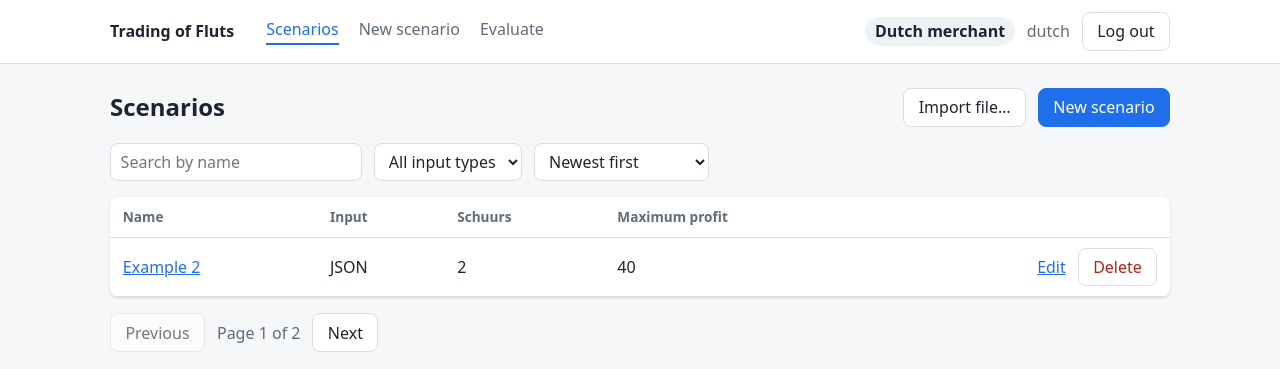
Test: ScenarioListPage › pages through the results
Expected: the text "Page 1 of 2" is shown, x1=217 y1=321 x2=300 y2=345
Expected: the button "Previous" is disabled, x1=110 y1=313 x2=205 y2=352
Click the button "Next" at (345, 333), box x1=312 y1=313 x2=378 y2=352
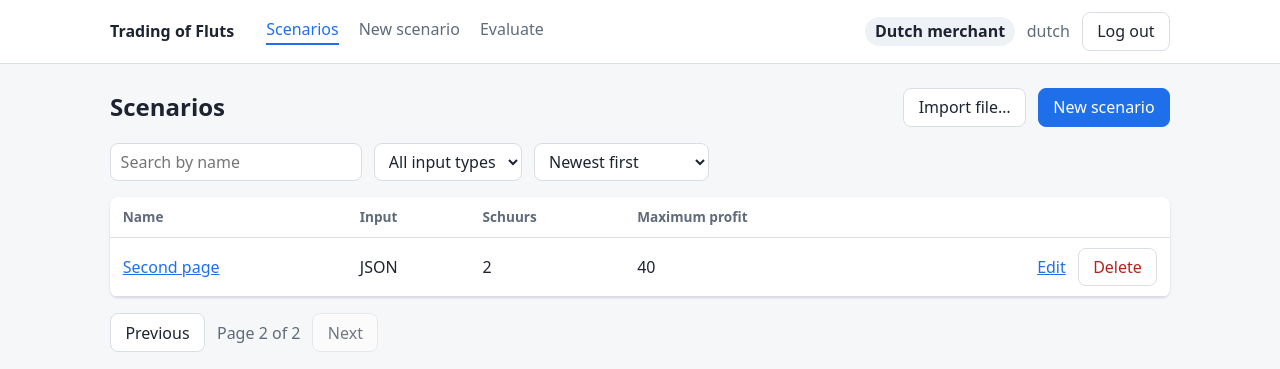
Result: the link "Second page" is shown at x1=123 y1=256 x2=220 y2=278
Result: the button "Next" is disabled at x1=312 y1=313 x2=378 y2=352
Click the button "Previous" at (158, 333), box x1=110 y1=313 x2=205 y2=352
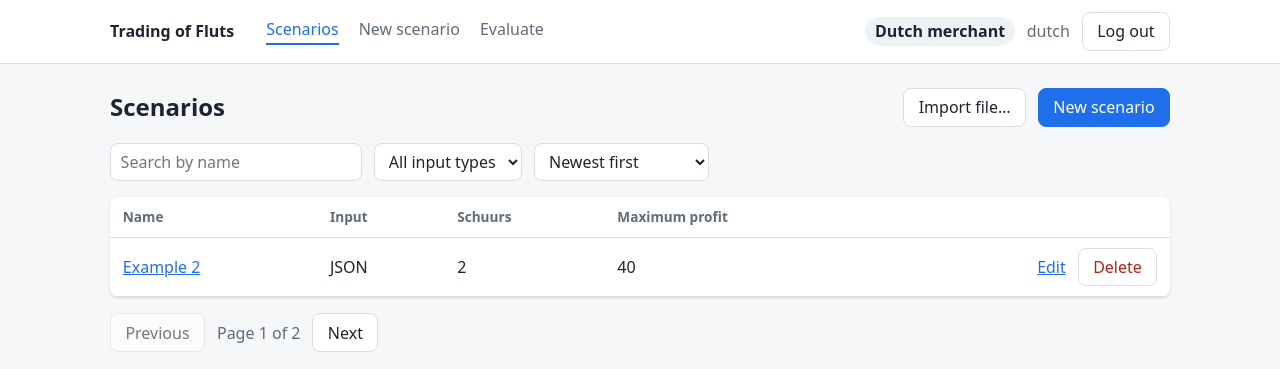
Result: the text "Page 1 of 2" is shown at x1=217 y1=321 x2=300 y2=345
